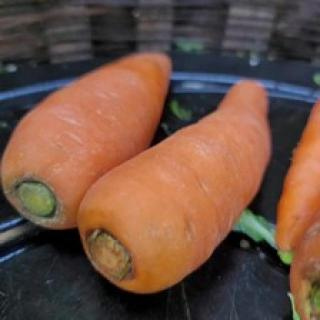carrot: (77, 79, 273, 295), (0, 38, 173, 230)
